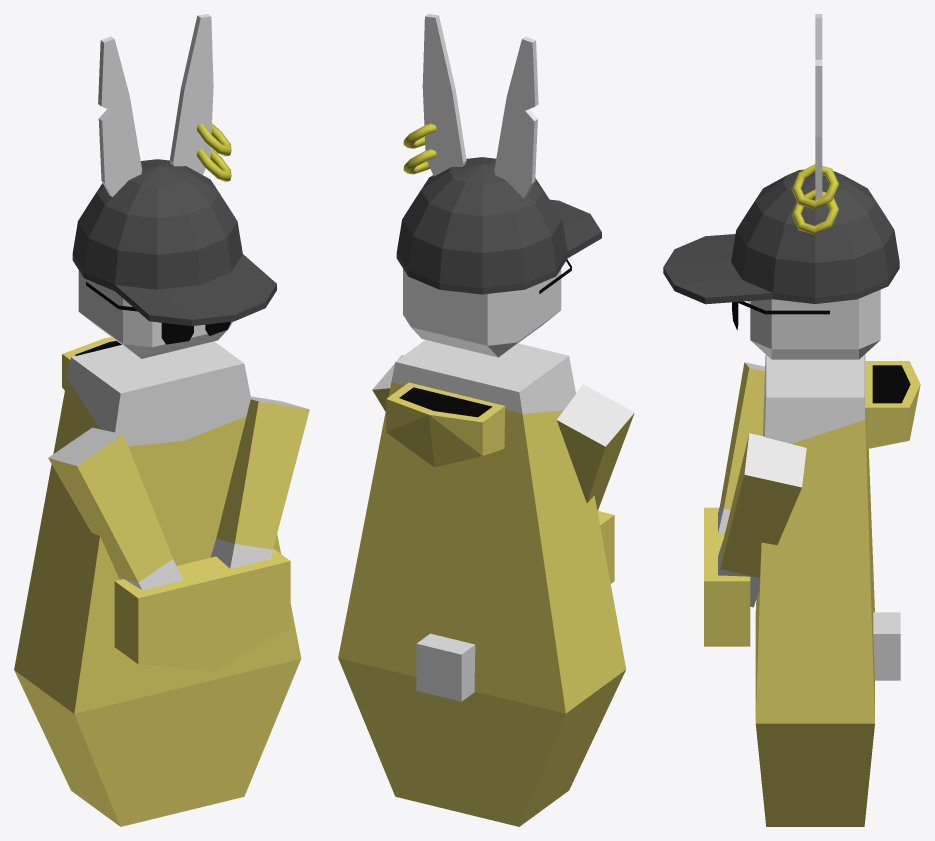
File: player.fbx
3 renders of one model, left to right at view 1: azimuth 30°, elevation 25°; view 2: azimuth 150°, elevation 25°; view 3: azimuth 270°, elevation 25°, orthographic.
Visible parts, largest first — view 1: Cube.019, Cube.018, Torus, Cube.020; view 2: Cube.019, Cube.018, Torus; view 3: Cube.019, Cube.018, Torus, Cube.020.
Boxes of the visible parts, x1,y1,x2,y2 form: Cube.019: (14,337,309,826); Cube.018: (72,14,276,358); Torus: (197,123,231,181); Cube.020: (86,282,230,344); Cube.019: (338,340,634,826); Cube.018: (396,14,601,357); Torus: (403,123,436,174); Cube.019: (704,354,920,826); Cube.018: (663,14,899,359); Torus: (791,164,838,234); Cube.020: (732,301,829,330).
Size of the model in its own units: 74.03 by 233 by 71.56.
